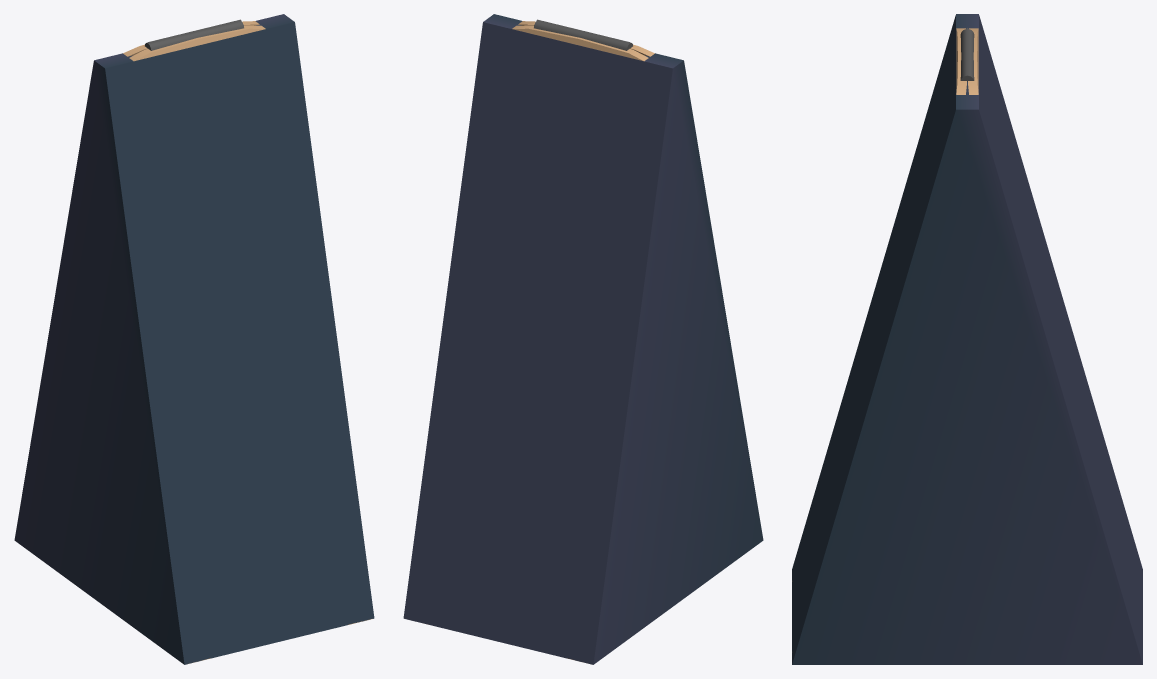
The model's file is clutter_city_chalkboard_sign.dae.
3 renders of one model, left to right at view 1: azimuth 30°, elevation 25°; view 2: azimuth 150°, elevation 25°; view 3: azimuth 270°, elevation 25°, orthographic. The views are drawn at different scales.
Parts seen in each view (by area): view 1: Colmesh-1, clutter_city_chalkboard_sign_a400; view 2: Colmesh-1, clutter_city_chalkboard_sign_a400; view 3: Colmesh-1, clutter_city_chalkboard_sign_a400.
Boxes of the visible parts, box(x1,y1,x2,y2) form: Colmesh-1: box(14, 14, 374, 664); clutter_city_chalkboard_sign_a400: box(123, 21, 369, 664); Colmesh-1: box(403, 14, 763, 664); clutter_city_chalkboard_sign_a400: box(512, 21, 654, 664); Colmesh-1: box(792, 14, 1142, 664); clutter_city_chalkboard_sign_a400: box(956, 28, 978, 94).
Bounding box in the file's own units: 0.4682 × 0.726 × 1.29.
